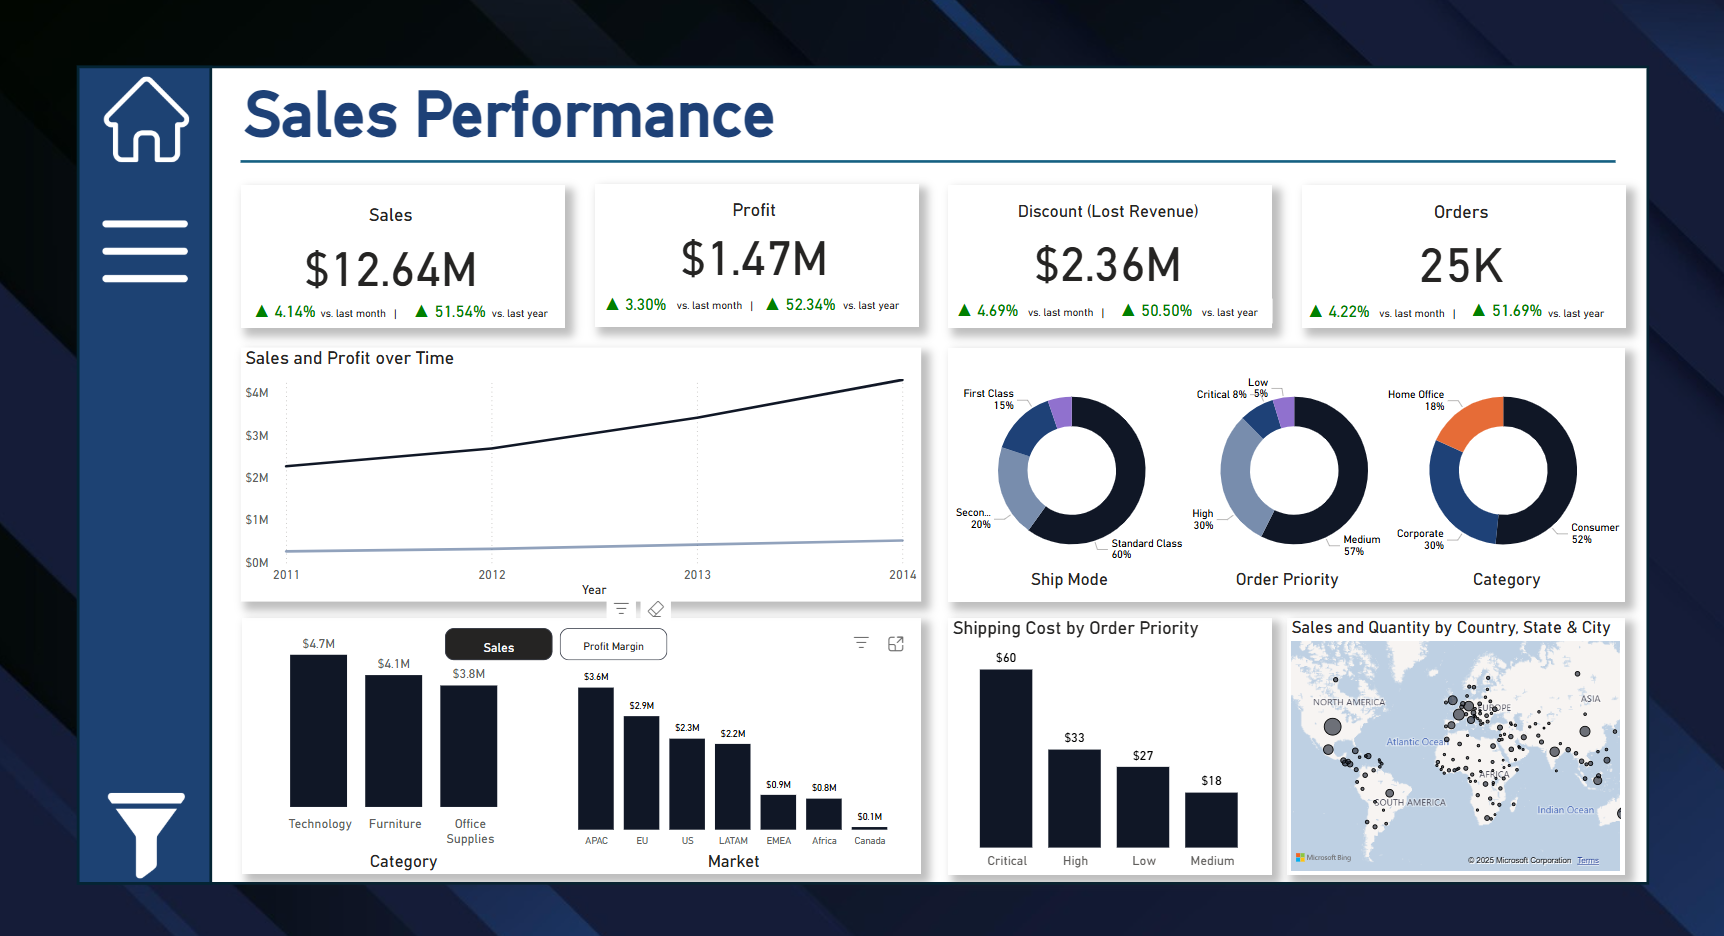

Layout of this report page (visuals, bound fields, positions):
{"tool":"powerbi","page":{"name":"Sales","canvas":[1980,1080],"ordinal":1},"visuals":[{"type":"shape","box":[682.8,210.6,370,163],"z":0,"group":"g2"},{"type":"shape","box":[279,211,370,163],"z":0,"group":"g1"},{"type":"shape","box":[1086.9,211,370.2,163],"z":0,"group":"g4"},{"type":"shape","box":[1491,211,370,163],"z":0,"group":"g3"},{"type":"shape","box":[1087.4,397.1,773.8,290.3],"z":0},{"type":"card","fields":{"Values":["_Measures.Trend Icon MOM Profit"]},"box":[686.8,334.6,84.1,26.7],"z":1000,"group":"g2"},{"type":"card","fields":{"Values":["_Measures.Trend Icon MOM Sales"]},"box":[283,340,91,33],"z":1000,"group":"g1"},{"type":"card","fields":{"Values":["_Measures.Trend Icon MOM Discount"]},"box":[1089.6,340.9,83,28.4],"z":1000,"group":"g4"},{"type":"card","fields":{"Values":["_Measures.Trend Icon MOM Orders"]},"box":[1491,342,83,28],"z":1000,"group":"g3"},{"type":"shape","box":[279.4,706.1,776.3,293.9],"z":1000},{"type":"card","fields":{"Values":["_Measures.Trend Icon YOY Profit"]},"box":[866,334.9,103,28.9],"z":2000,"group":"g2"},{"type":"card","fields":{"Values":["_Measures.Trend Icon YOY Discount"]},"box":[1273.4,336,100,36.4],"z":2000,"group":"g4"},{"type":"card","fields":{"Values":["_Measures.Trend Icon YOY Orders"]},"box":[1672.8,336,103.4,37.5],"z":2000,"group":"g3"},{"type":"card","fields":{"Values":["_Measures.Trend Icon YOY Sales"]},"box":[464,339,105,34],"z":2000,"group":"g1"},{"type":"donutChart","fields":{"Category":["orders.Order Category"],"Y":["_Measures.Line Count"]},"box":[1583,403.2,277.7,270.2],"z":2000},{"type":"card","title":"Profit","fields":{"Values":["_Measures.Profit"]},"box":[757.4,227.5,216.3,99.4],"z":3000,"group":"g2"},{"type":"card","title":"Discount  (Lost Revenue)","fields":{"Values":["_Measures.Discount (Lost Revenue)"]},"box":[1161.6,229.6,216.4,109.2],"z":3000,"group":"g4"},{"type":"card","title":"Orders","fields":{"Values":["_Measures.Order Count"]},"box":[1565.3,229.6,215.2,109.6],"z":3000,"group":"g3"},{"type":"card","title":"Sales","fields":{"Values":["_Measures.Sales"]},"box":[340.6,231.7,219.8,114.3],"z":3000,"group":"g1"},{"type":"donutChart","fields":{"Y":["_Measures.Line Count"],"Category":["orders.Order Priority"]},"box":[1344.7,403.2,277,270.2],"z":3000},{"type":"textbox","box":[276.8,82.1,683.9,101.8],"z":4000},{"type":"textbox","box":[771,335,107,32],"z":4000,"group":"g2"},{"type":"textbox","box":[1172.2,341.2,106,29],"z":4000,"group":"g4"},{"type":"textbox","box":[364.1,341.9,112.8,31.9],"z":4000,"group":"g1"},{"type":"textbox","box":[1574,342,112,29],"z":4000,"group":"g3"},{"type":"group","id":"g1","title":"Sales Card","box":[279,211,370,163],"z":5000},{"type":"textbox","box":[961.1,335.3,89.1,32.7],"z":5000,"group":"g2"},{"type":"textbox","box":[1371,341,86,28],"z":5000,"group":"g4"},{"type":"textbox","box":[561,342,84,30],"z":5000,"group":"g1"},{"type":"textbox","box":[1766,342,88,29],"z":5000,"group":"g3"},{"type":"group","id":"g2","title":"Profit Card","box":[682.8,210.6,370,163],"z":6000},{"type":"lineChart","title":"Sales and Profit over Time","fields":{"Category":["Date.Date Hierarchy.Year","Date.Date Hierarchy.Quarter","Date.Date Hierarchy.Month Short","Date.Date Hierarchy.Date"],"Y":["_Measures.Sales","_Measures.Profit"]},"box":[278.4,396.9,777.3,290],"z":8000},{"type":"group","id":"g3","title":"Orders Card","box":[1491,211,370,163],"z":9000},{"type":"group","id":"g4","title":"Discount Card","box":[1086.9,211,370.2,163],"z":10000},{"type":"columnChart","fields":{"Y":["_Measures.Sales","_Measures.Profit Margin"],"Category":["product.Category"]},"box":[283,712,332,264],"z":11000},{"type":"advancedSlicerVisual","fields":{"Values":["Metrics.Metrics"]},"box":[506.5,712.2,264.2,47.2],"z":12000},{"type":"map","title":"Sales and Quantity by Country, State & City","fields":{"Category":["store.city Hierarchy.country","store.city Hierarchy.state","store.city Hierarchy.city"],"Size":["_Measures.Sales"]},"box":[1474.8,705.8,386.4,294.2],"z":13000},{"type":"columnChart","title":"Shipping Cost by Order Priority","fields":{"Y":["_Measures.Avg Shipping Cost"],"Category":["orders.Order Priority"]},"box":[1087.4,705.8,369.9,294.2],"z":14000},{"type":"columnChart","fields":{"Y":["_Measures.Sales","_Measures.Profit Margin"],"Category":["store.market"]},"box":[639,752,406,224],"z":15000},{"type":"donutChart","fields":{"Y":["_Measures.Line Count"],"Category":["orders.ship_mode"]},"box":[1089.4,403.2,277,270.2],"z":16000},{"type":"textbox","box":[405,969,118,40],"z":17000},{"type":"textbox","box":[800,968,84,41],"z":18000},{"type":"textbox","box":[1164.9,645.7,122.3,41.5],"z":19000},{"type":"textbox","box":[1393.6,645.7,160.6,41.5],"z":20000},{"type":"textbox","box":[1663.8,645.7,122.3,41.5],"z":21000},{"type":"image","box":[75,246.4,187.5,107.1],"z":22000},{"type":"image","box":[76.8,901.8,187,107],"z":23000},{"type":"image","box":[76.8,82.1,187,107],"z":24000}]}

Visuals, with their boxes in screenshot pixels (x1, y1, x2, y2), scaled from the page's 1980x1080 canvas onto the 1724x936 screenshot:
shape: bbox(595, 183, 917, 324)
shape: bbox(243, 183, 565, 324)
shape: bbox(946, 183, 1269, 324)
shape: bbox(1298, 183, 1620, 324)
shape: bbox(947, 344, 1621, 596)
card - _Measures.Trend Icon MOM Profit: bbox(598, 290, 671, 313)
card - _Measures.Trend Icon MOM Sales: bbox(246, 295, 326, 323)
card - _Measures.Trend Icon MOM Discount: bbox(949, 295, 1021, 320)
card - _Measures.Trend Icon MOM Orders: bbox(1298, 296, 1370, 321)
shape: bbox(243, 612, 919, 867)
card - _Measures.Trend Icon YOY Profit: bbox(754, 290, 844, 315)
card - _Measures.Trend Icon YOY Discount: bbox(1109, 291, 1196, 323)
card - _Measures.Trend Icon YOY Orders: bbox(1457, 291, 1547, 324)
card - _Measures.Trend Icon YOY Sales: bbox(404, 294, 495, 323)
donutChart - orders.Order Category x _Measures.Line Count: bbox(1378, 349, 1620, 584)
"Profit" card: bbox(659, 197, 848, 283)
"Discount  (Lost Revenue)" card: bbox(1011, 199, 1200, 294)
"Orders" card: bbox(1363, 199, 1550, 294)
"Sales" card: bbox(297, 201, 488, 300)
donutChart - _Measures.Line Count x orders.Order Priority: bbox(1171, 349, 1412, 584)
textbox: bbox(241, 71, 836, 159)
textbox: bbox(671, 290, 764, 318)
textbox: bbox(1021, 296, 1113, 321)
textbox: bbox(317, 296, 415, 324)
textbox: bbox(1370, 296, 1468, 322)
"Sales Card" group: bbox(243, 183, 565, 324)
textbox: bbox(837, 291, 914, 319)
textbox: bbox(1194, 296, 1269, 320)
textbox: bbox(488, 296, 562, 322)
textbox: bbox(1538, 296, 1614, 322)
"Profit Card" group: bbox(595, 183, 917, 324)
"Sales and Profit over Time" lineChart: bbox(242, 344, 919, 595)
"Orders Card" group: bbox(1298, 183, 1620, 324)
"Discount Card" group: bbox(946, 183, 1269, 324)
columnChart - _Measures.Sales x _Measures.Profit Margin: bbox(246, 617, 535, 846)
advancedSlicerVisual - Metrics.Metrics: bbox(441, 617, 671, 658)
"Sales and Quantity by Country, State & City" map: bbox(1284, 612, 1621, 867)
"Shipping Cost by Order Priority" columnChart: bbox(947, 612, 1269, 867)
columnChart - _Measures.Sales x _Measures.Profit Margin: bbox(556, 652, 910, 846)
donutChart - _Measures.Line Count x orders.ship_mode: bbox(949, 349, 1190, 584)
textbox: bbox(353, 840, 455, 874)
textbox: bbox(697, 839, 770, 874)
textbox: bbox(1014, 560, 1121, 596)
textbox: bbox(1213, 560, 1353, 596)
textbox: bbox(1449, 560, 1555, 596)
image: bbox(65, 214, 229, 306)
image: bbox(67, 782, 230, 874)
image: bbox(67, 71, 230, 164)
